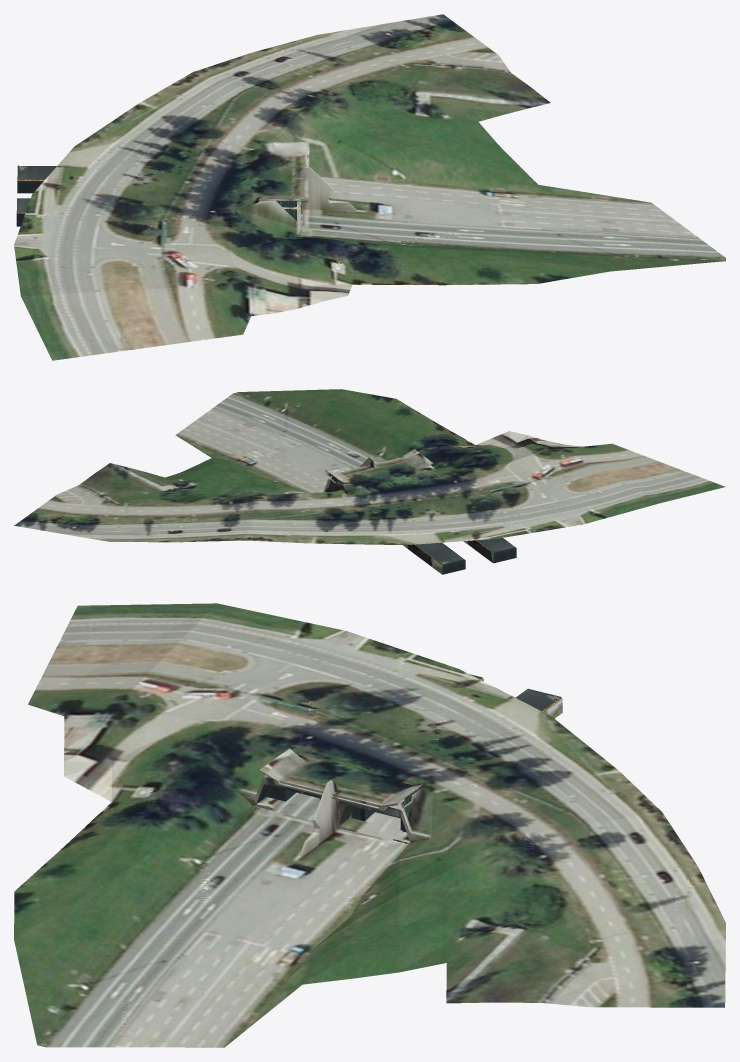
File: GotthardTunnelSouth2a.obj
3 renders of one model, top to bottom at view 1: azimuth 30°, elevation 25°; view 2: azimuth 150°, elevation 25°; view 3: azimuth 270°, elevation 25°, orthographic. The views are drawn at different scales.
Visible parts, largest first — view 1: Mesh1 Model; view 2: Mesh1 Model; view 3: Mesh1 Model.
Boxes of the visible parts, box(x1,y1,x2,y2) form: Mesh1 Model: box(14, 14, 725, 360); Mesh1 Model: box(14, 389, 725, 574); Mesh1 Model: box(14, 603, 725, 1047).
Bounding box in the file's own units: 181 × 19.83 × 141.
Materials: 4 (3 with a texture image).
